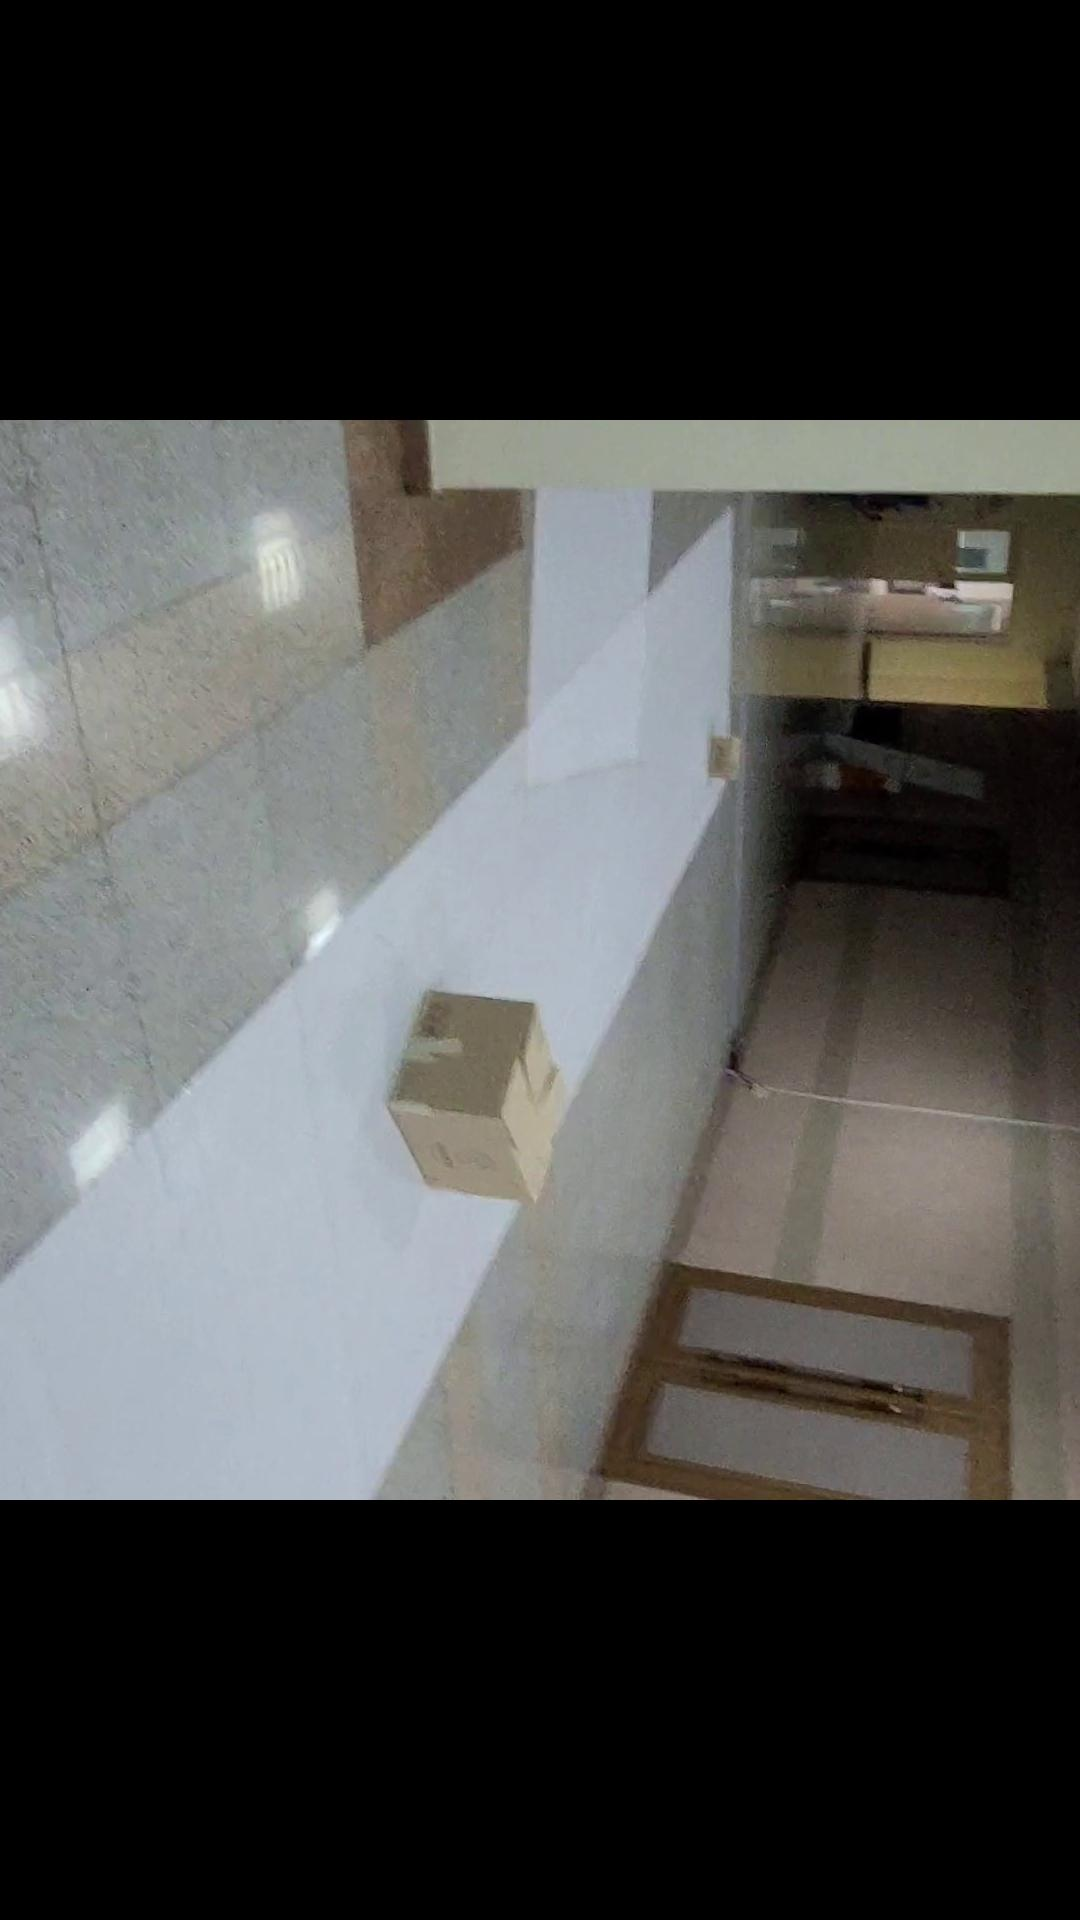Box: (367, 992, 592, 1222), (680, 736, 770, 790)
